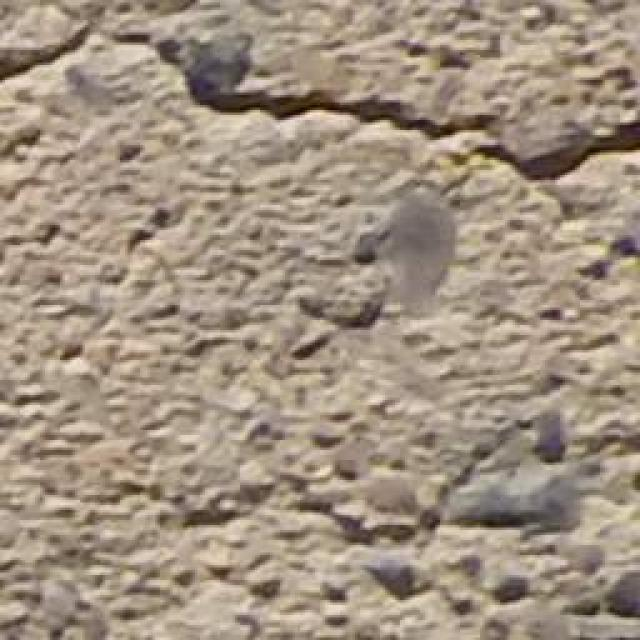concrete-crack: (0, 0, 640, 196)
